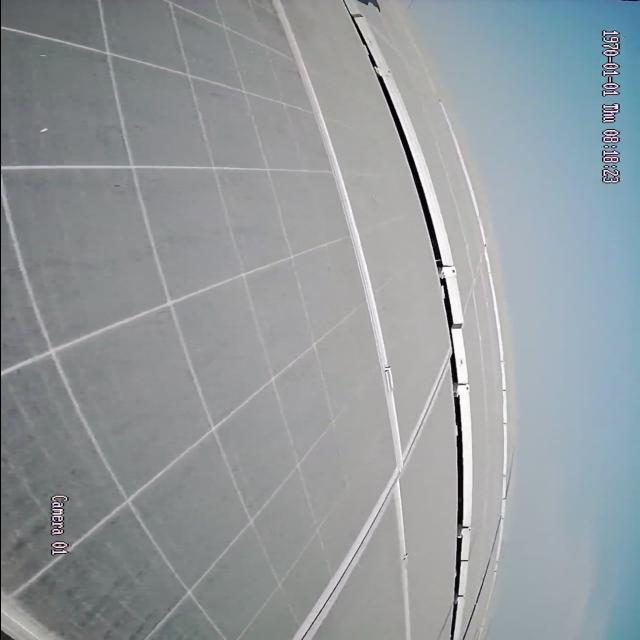interior panel: (271, 1, 447, 639)
